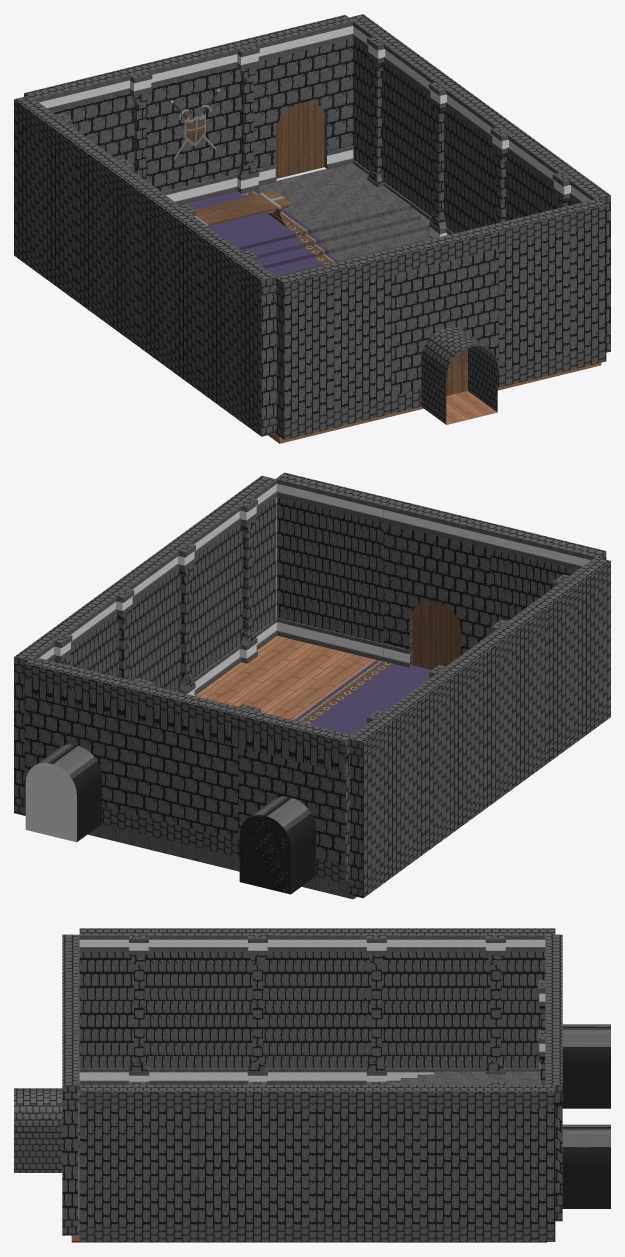
The model's file is War Room.fbx.
The picture shows the model from 3 angles, top to bottom: view 1: azimuth 30°, elevation 25°; view 2: azimuth 150°, elevation 25°; view 3: azimuth 270°, elevation 25°; orthographic projection. The views are drawn at different scales.
Parts seen in each view (by area): view 1: Plane, Plane.004, Plane.002, Plane.012, Plane.010, Plane.001, Plane.009; view 2: Plane, Plane.004, Plane.009, Plane.003; view 3: Plane, Plane.004.
Boxes of the visible parts, bbox=[...] form: Plane: bbox=[14, 14, 610, 439]; Plane.004: bbox=[186, 163, 601, 443]; Plane.002: bbox=[194, 190, 292, 226]; Plane.012: bbox=[298, 102, 324, 173]; Plane.010: bbox=[275, 104, 298, 178]; Plane.001: bbox=[170, 89, 219, 160]; Plane.009: bbox=[446, 348, 467, 395]; Plane: bbox=[14, 472, 610, 898]; Plane.004: bbox=[88, 635, 431, 899]; Plane.009: bbox=[412, 600, 438, 669]; Plane.003: bbox=[438, 602, 460, 666]; Plane: bbox=[14, 928, 610, 1241]; Plane.004: bbox=[71, 1071, 547, 1242].
Size of the model in its own units: 2521 by 1129 by 3885.
